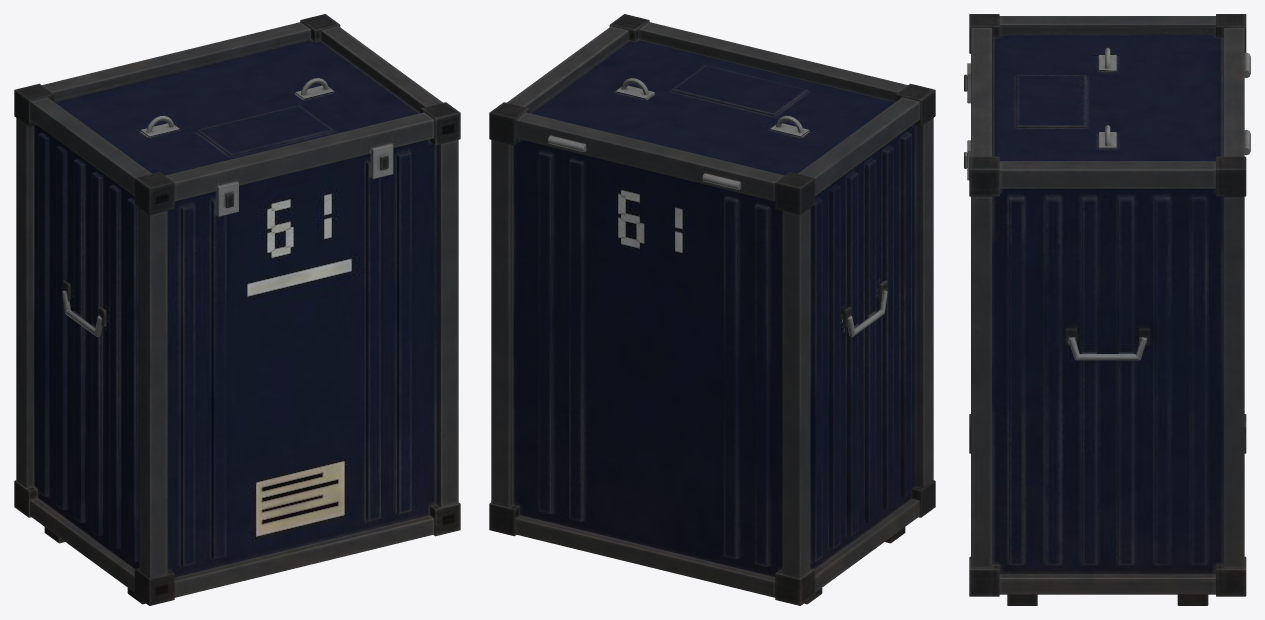
The model's file is crate_tall_b.glb.
3 views of the same model, side by side, from view 1: azimuth 30°, elevation 25°; view 2: azimuth 150°, elevation 25°; view 3: azimuth 270°, elevation 25° (orthographic). The views are drawn at different scales.
Visible parts, largest first — view 1: crate_tall_b; view 2: crate_tall_b; view 3: crate_tall_b.
Boxes of the visible parts, bbox=[...] form: crate_tall_b: bbox=[14, 14, 460, 605]; crate_tall_b: bbox=[489, 14, 935, 605]; crate_tall_b: bbox=[964, 14, 1250, 605].
Bounding box in the file's own units: 1.22 × 1.62 × 0.942.
1 material, 1 textured.
